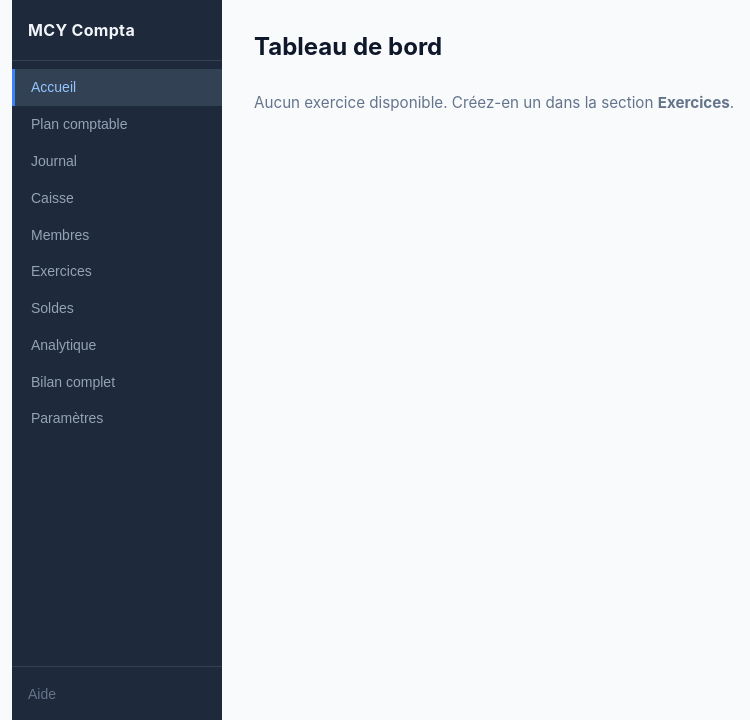
App — navigation › navigue vers Soldes au clic
Click the button "Soldes".
click(117, 308)  # box [12,290,222,326]
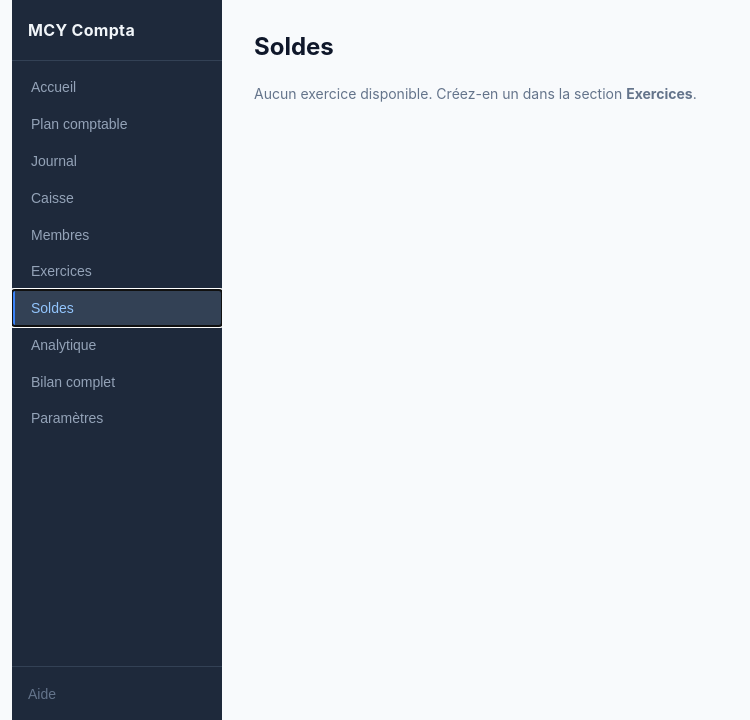
Check: the heading "Soldes" is shown, box [254,32,334,61]
